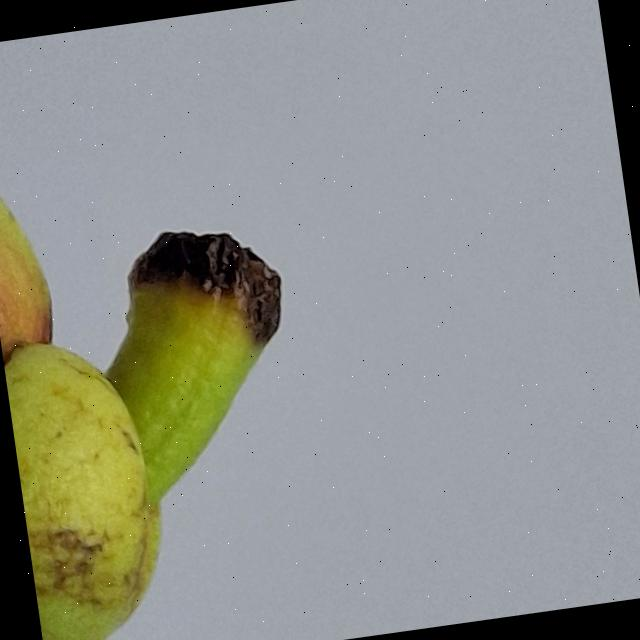mangosteen: (0, 0, 399, 640)
